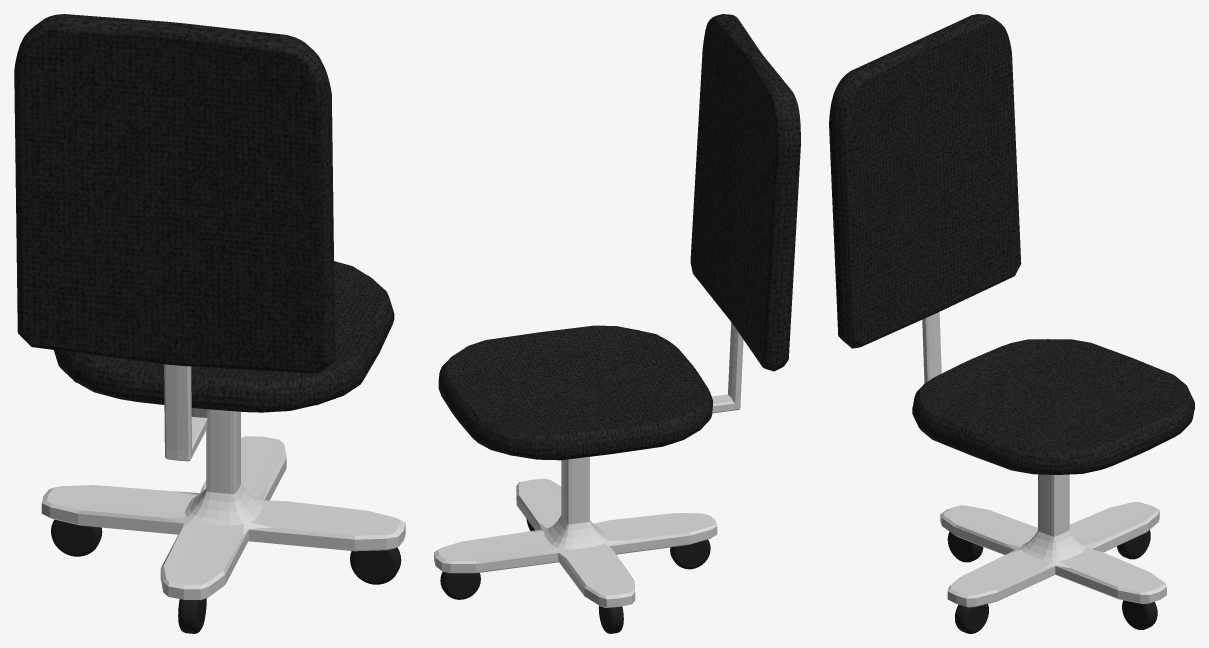
Rendered from chair.glb.
3 views of the same model, side by side, from view 1: azimuth 30°, elevation 25°; view 2: azimuth 150°, elevation 25°; view 3: azimuth 270°, elevation 25° (orthographic). The views are drawn at different scales.
Parts seen in each view (by area): view 1: Chair_Back, Chair_Metal, Chair_Pillow, Chair_Wheel_1, Chair_Wheel_2, Chair_Wheel_4; view 2: Chair_Back, Chair_Pillow, Chair_Metal, Chair_Wheel_3, Chair_Wheel_4, Chair_Wheel_2; view 3: Chair_Back, Chair_Pillow, Chair_Metal, Chair_Wheel_3, Chair_Wheel_1, Chair_Wheel_4, Chair_Wheel_2.
Part boxes in pixels (x1,y1,x2,y2): Chair_Back: [14, 14, 335, 373]; Chair_Metal: [41, 364, 405, 600]; Chair_Pillow: [54, 261, 394, 412]; Chair_Wheel_1: [350, 547, 401, 584]; Chair_Wheel_2: [51, 519, 102, 556]; Chair_Wheel_4: [178, 598, 206, 633]; Chair_Back: [690, 14, 800, 371]; Chair_Pillow: [438, 325, 712, 460]; Chair_Metal: [434, 322, 743, 607]; Chair_Wheel_3: [440, 571, 480, 599]; Chair_Wheel_4: [670, 539, 710, 569]; Chair_Wheel_2: [598, 605, 623, 633]; Chair_Back: [829, 14, 1021, 348]; Chair_Pillow: [912, 339, 1194, 474]; Chair_Metal: [922, 312, 1166, 607]; Chair_Wheel_3: [1122, 600, 1157, 629]; Chair_Wheel_1: [955, 604, 988, 633]; Chair_Wheel_4: [947, 532, 983, 562]; Chair_Wheel_2: [1117, 530, 1150, 559].
Bounding box in the file's own units: 1.45 × 2.21 × 1.46.
Materials: 3 (1 with a texture image).
